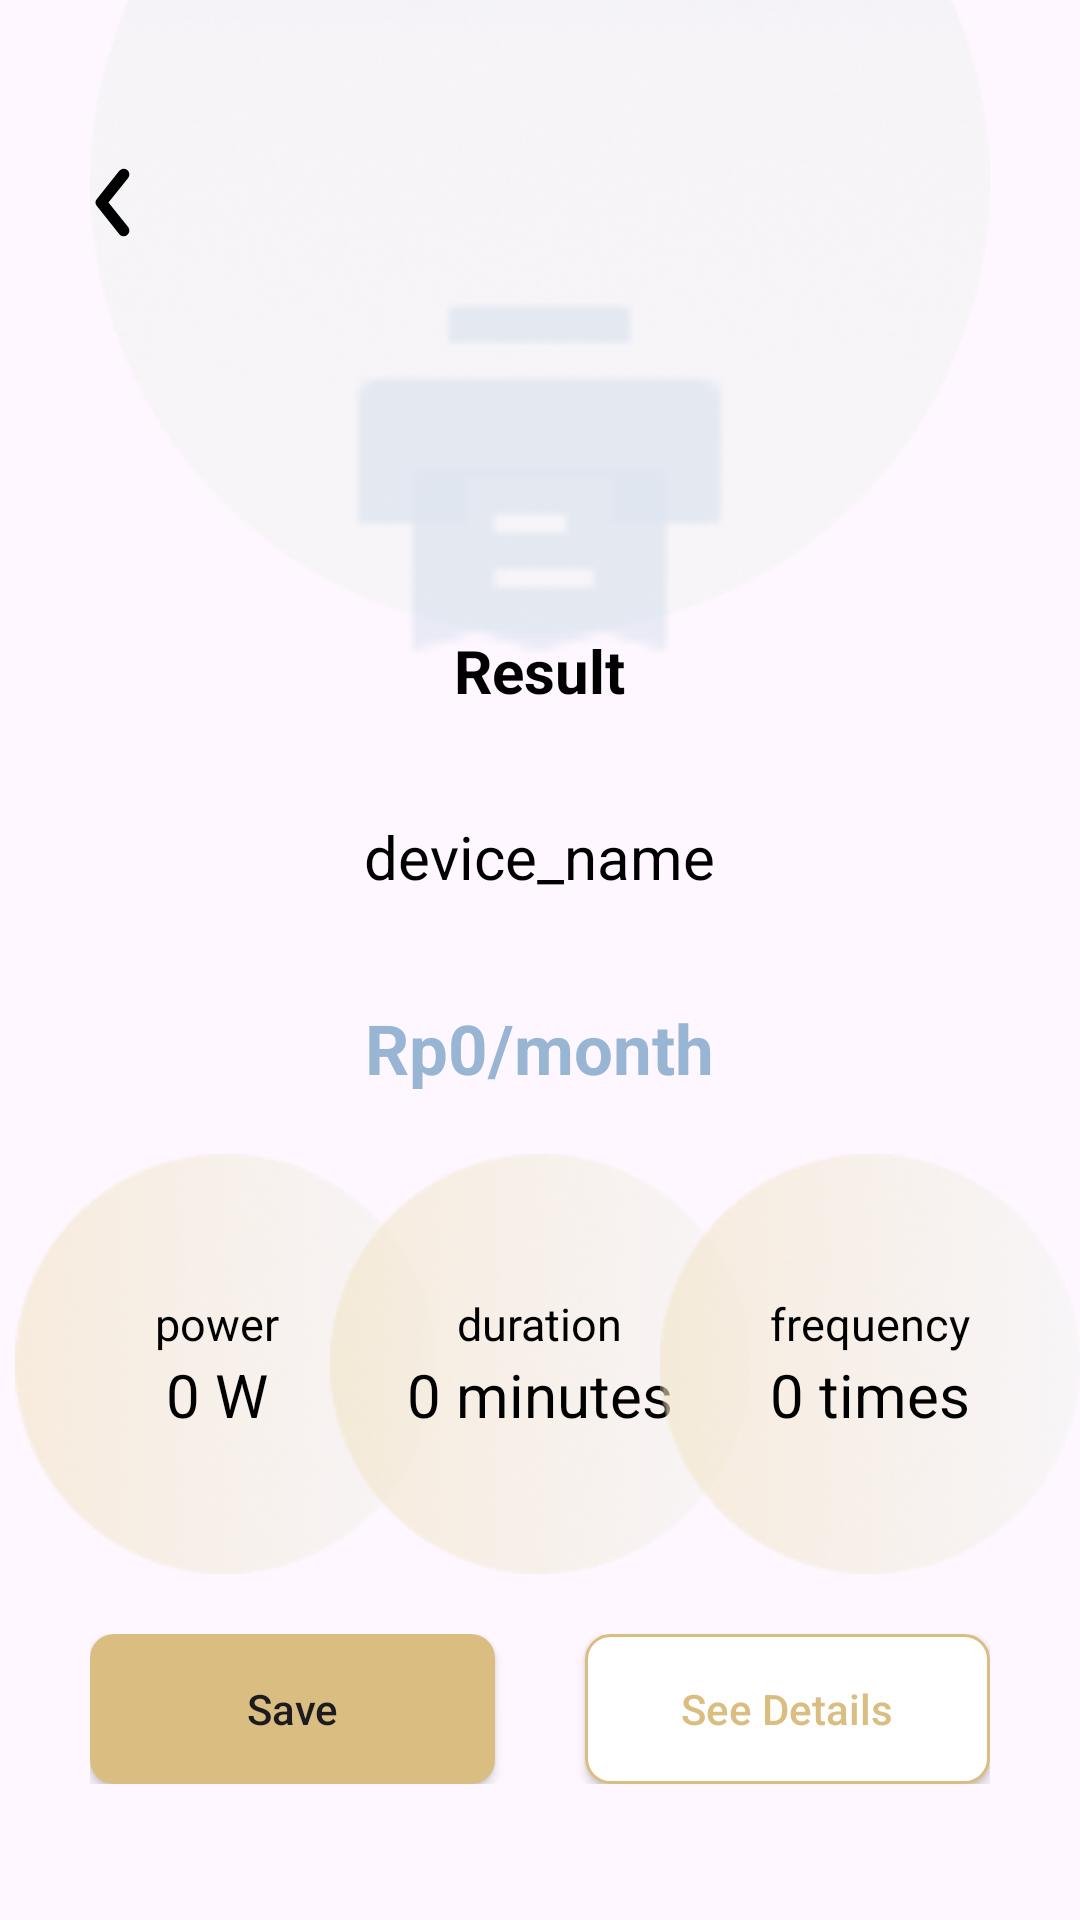

Icon bounding boxes for this 1080px×1920px phone screenshot, format (x1, y1, x2, y2):
back arrow: (95, 168, 130, 237)
